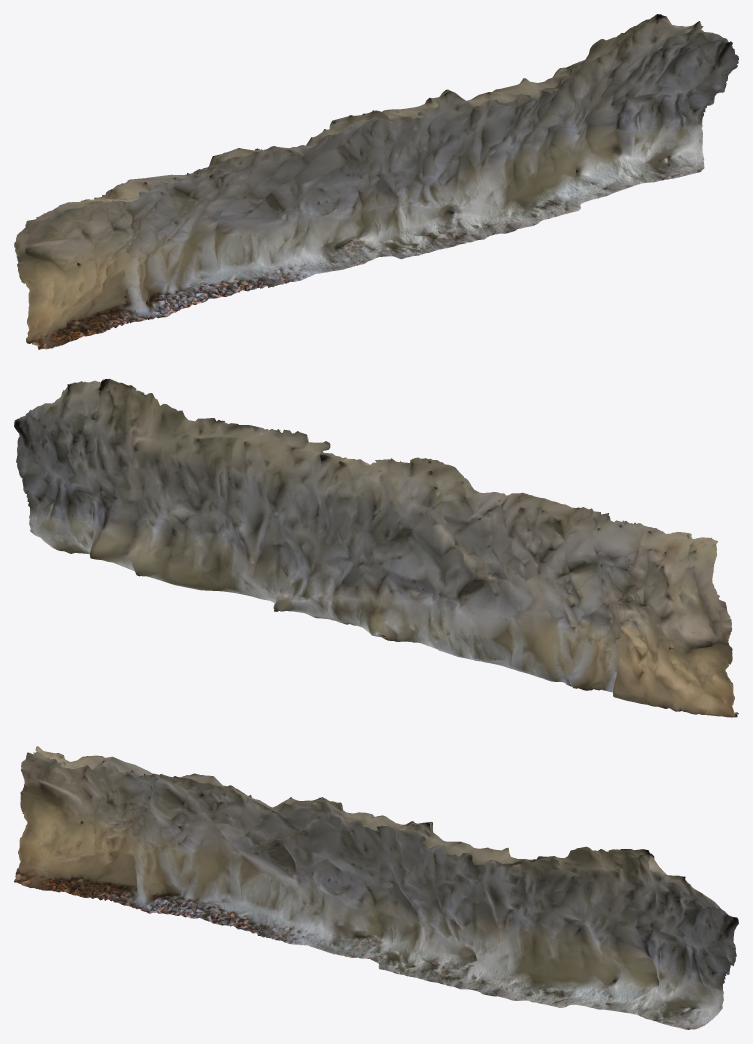
File: cave.glb
3 renders of one model, top to bottom at view 1: azimuth 30°, elevation 25°; view 2: azimuth 150°, elevation 25°; view 3: azimuth 330°, elevation 25°, orthographic.
Visible parts, largest first — view 1: Cave; view 2: Cave; view 3: Cave.
Boxes of the visible parts, x1,y1,x2,y2 form: Cave: (14, 14, 738, 349); Cave: (14, 378, 738, 717); Cave: (14, 746, 738, 1029).
Bounding box in the file's own units: 47.69 × 11.87 × 6.21.
1 material, 1 textured.
